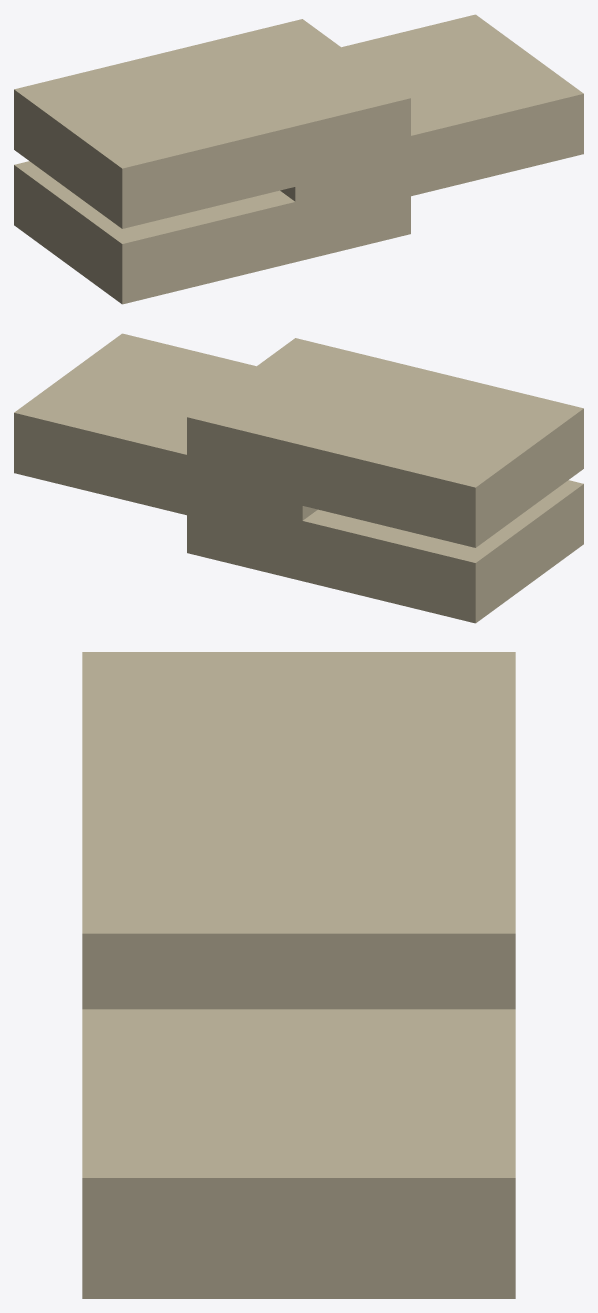
File: set_cement_bag.glb
3 views of the same model, one above another, from view 1: azimuth 30°, elevation 25°; view 2: azimuth 150°, elevation 25°; view 3: azimuth 270°, elevation 25° (orthographic). The views are drawn at different scales.
Parts seen in each view (by area): view 1: set_cement_bag; view 2: set_cement_bag; view 3: set_cement_bag.
Boxes of the visible parts, box(x1,y1,x2,y2) form: set_cement_bag: box(14, 14, 583, 304); set_cement_bag: box(14, 333, 583, 623); set_cement_bag: box(82, 652, 515, 1298).
Size of the model in its own units: 0.32 by 0.09 by 0.13.
